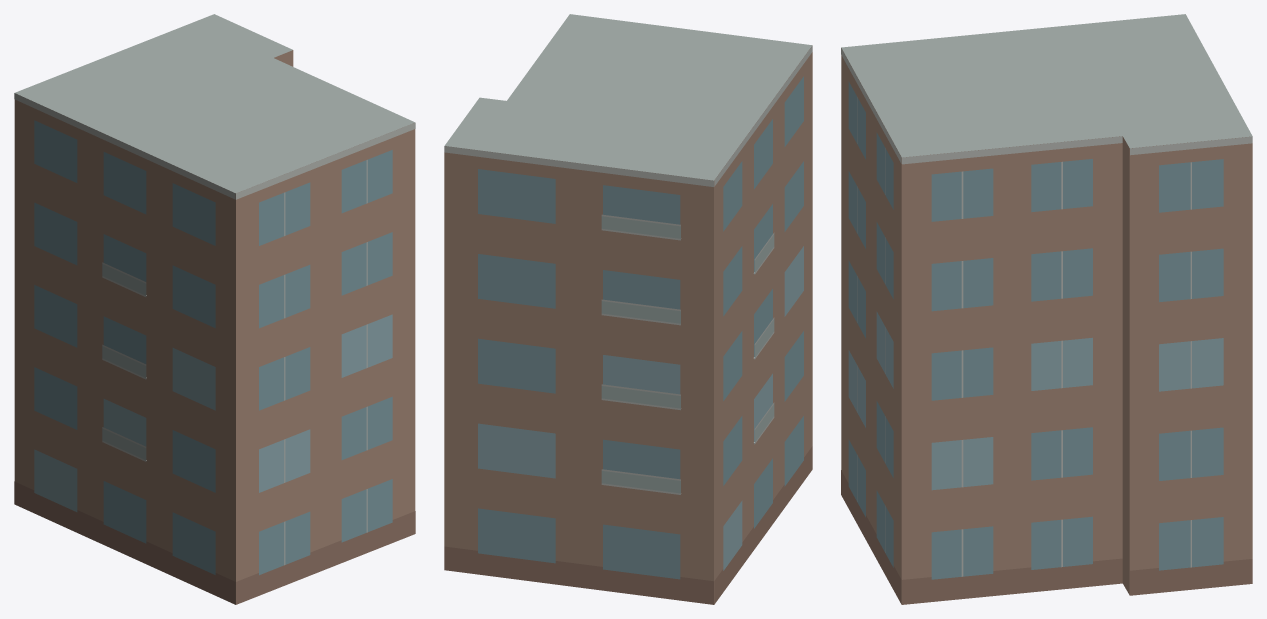
File: survey-upis-32716379.glb
3 renders of one model, left to right at view 1: azimuth 30°, elevation 25°; view 2: azimuth 150°, elevation 25°; view 3: azimuth 270°, elevation 25°, orthographic. The views are drawn at different scales.
Visible parts, largest first — view 1: survey-upis-32716379.tmp; view 2: survey-upis-32716379.tmp; view 3: survey-upis-32716379.tmp.
Boxes of the visible parts, x1,y1,x2,y2 form: survey-upis-32716379.tmp: (14, 14, 415, 604); survey-upis-32716379.tmp: (444, 14, 812, 604); survey-upis-32716379.tmp: (841, 14, 1252, 604).
Size of the model in its own units: 10.85 by 15.75 by 13.14.
